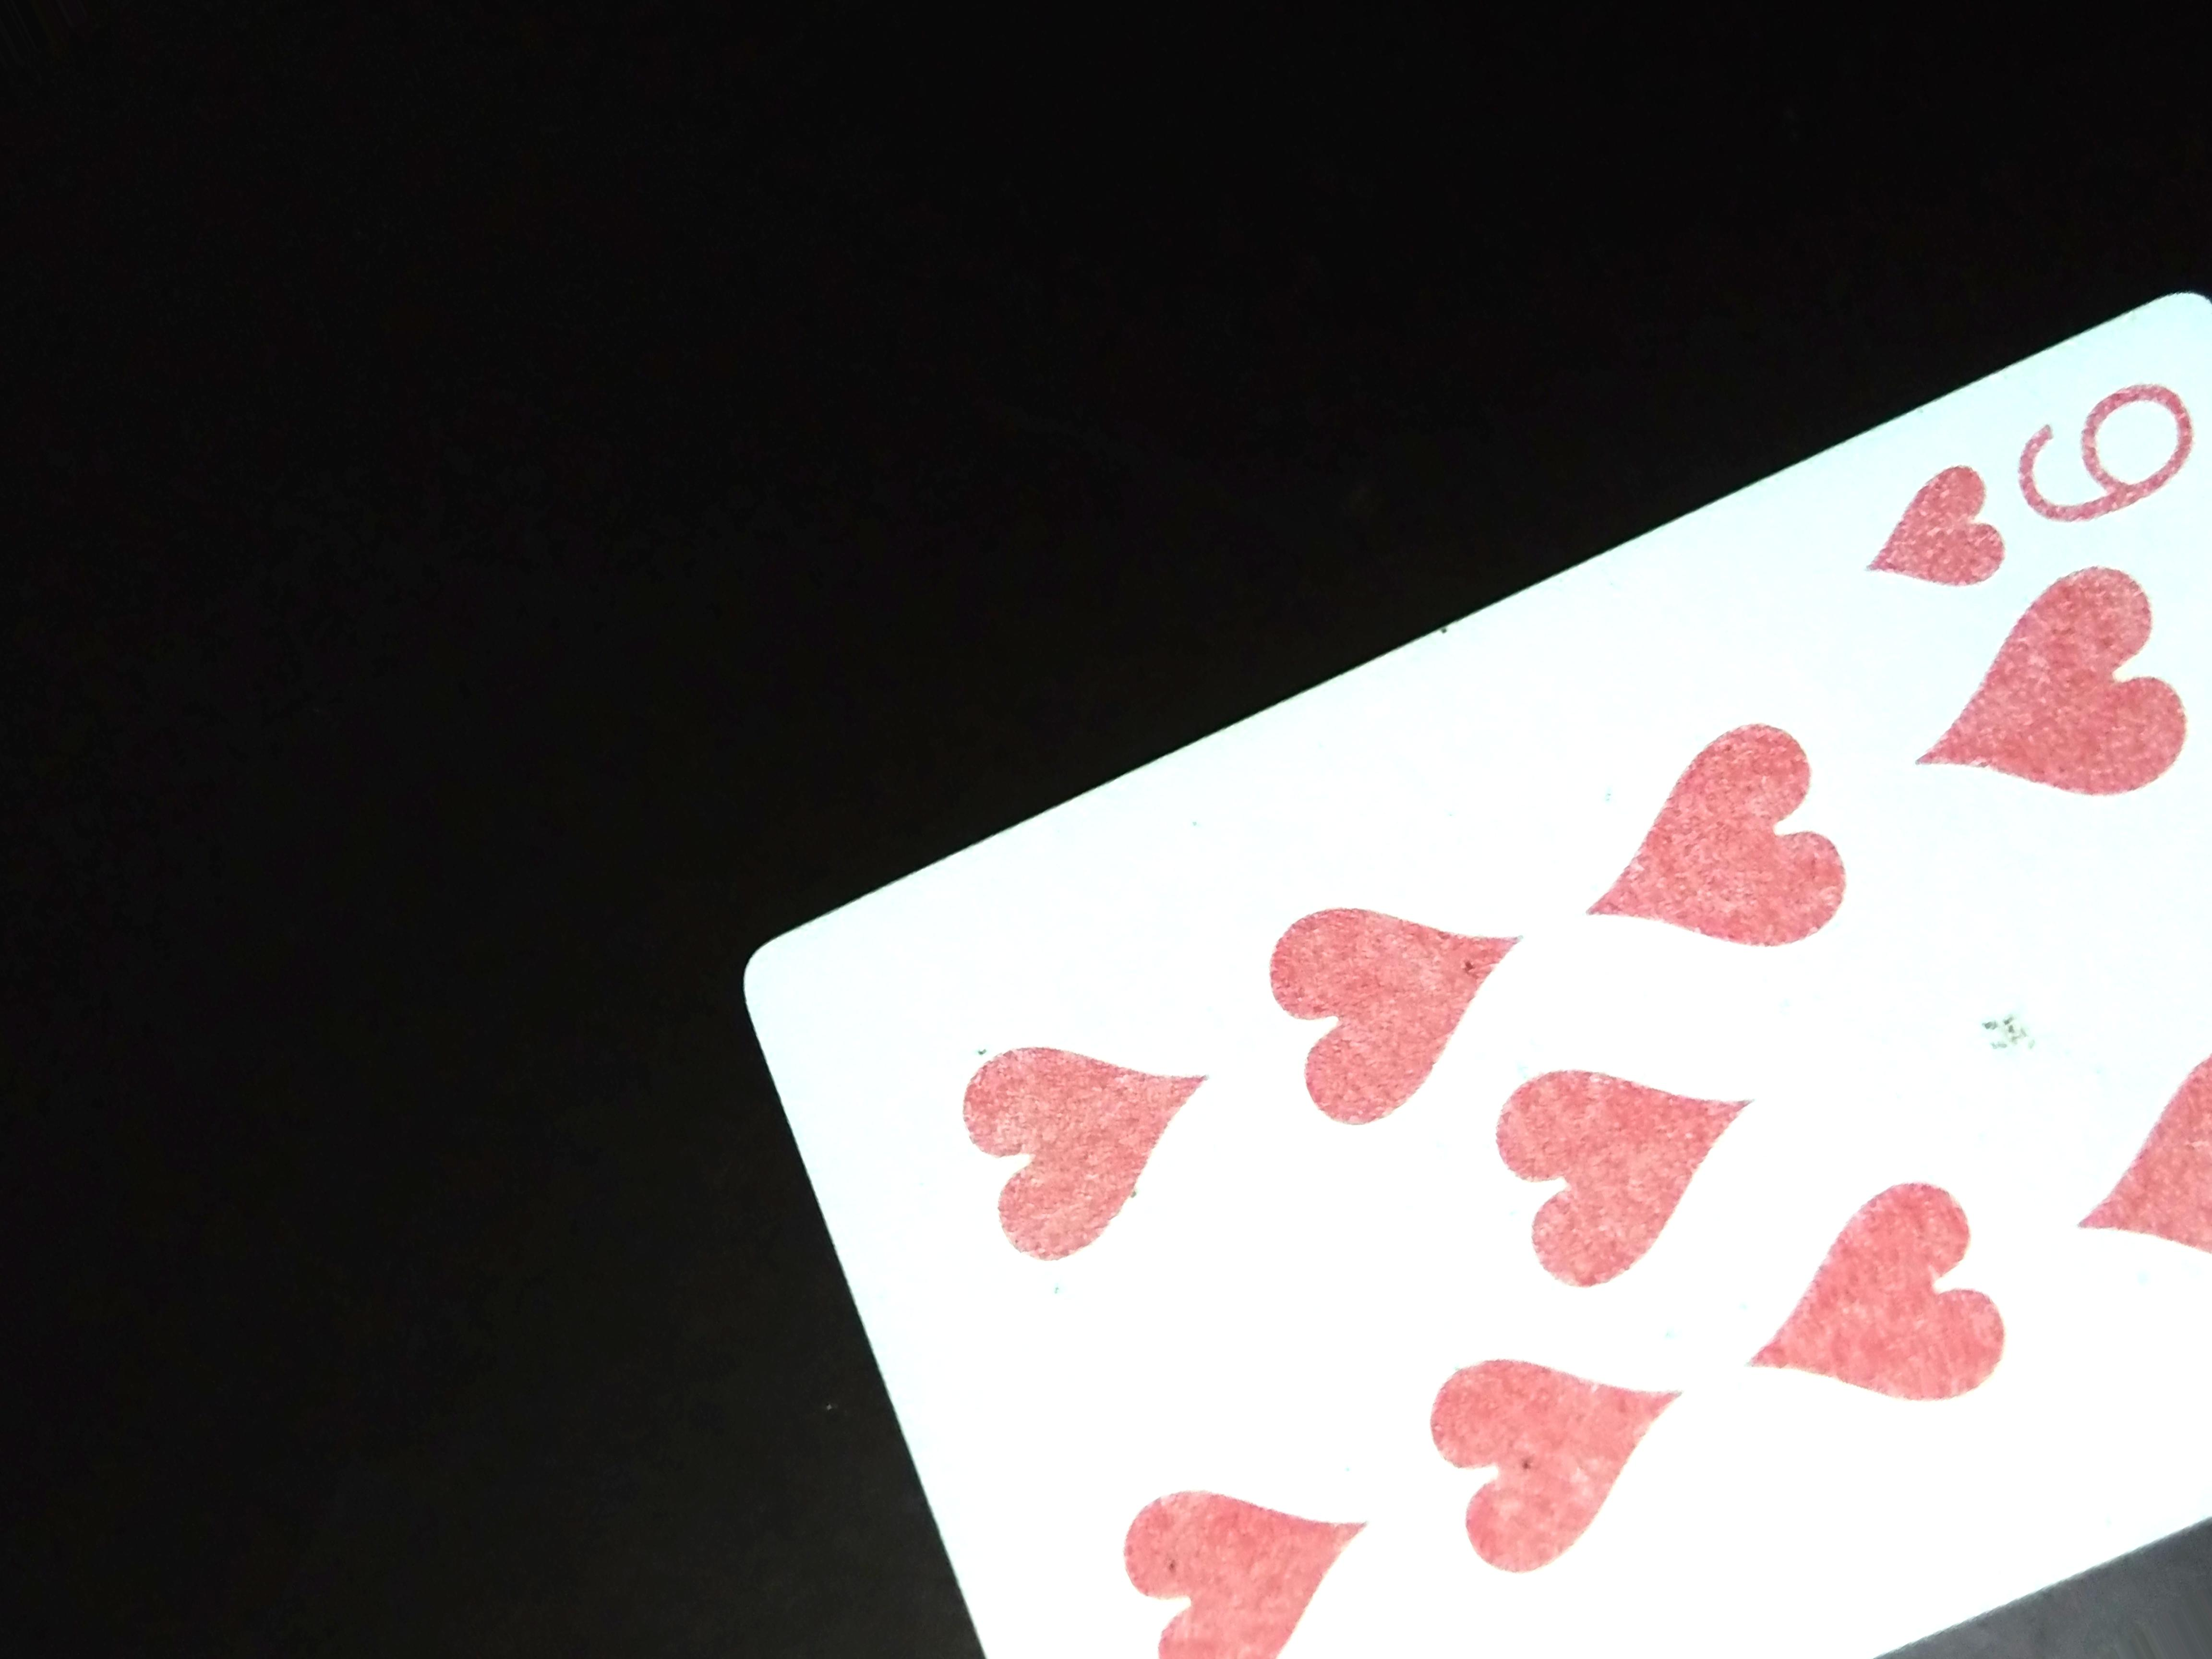9H: (1851, 364, 2203, 592)
